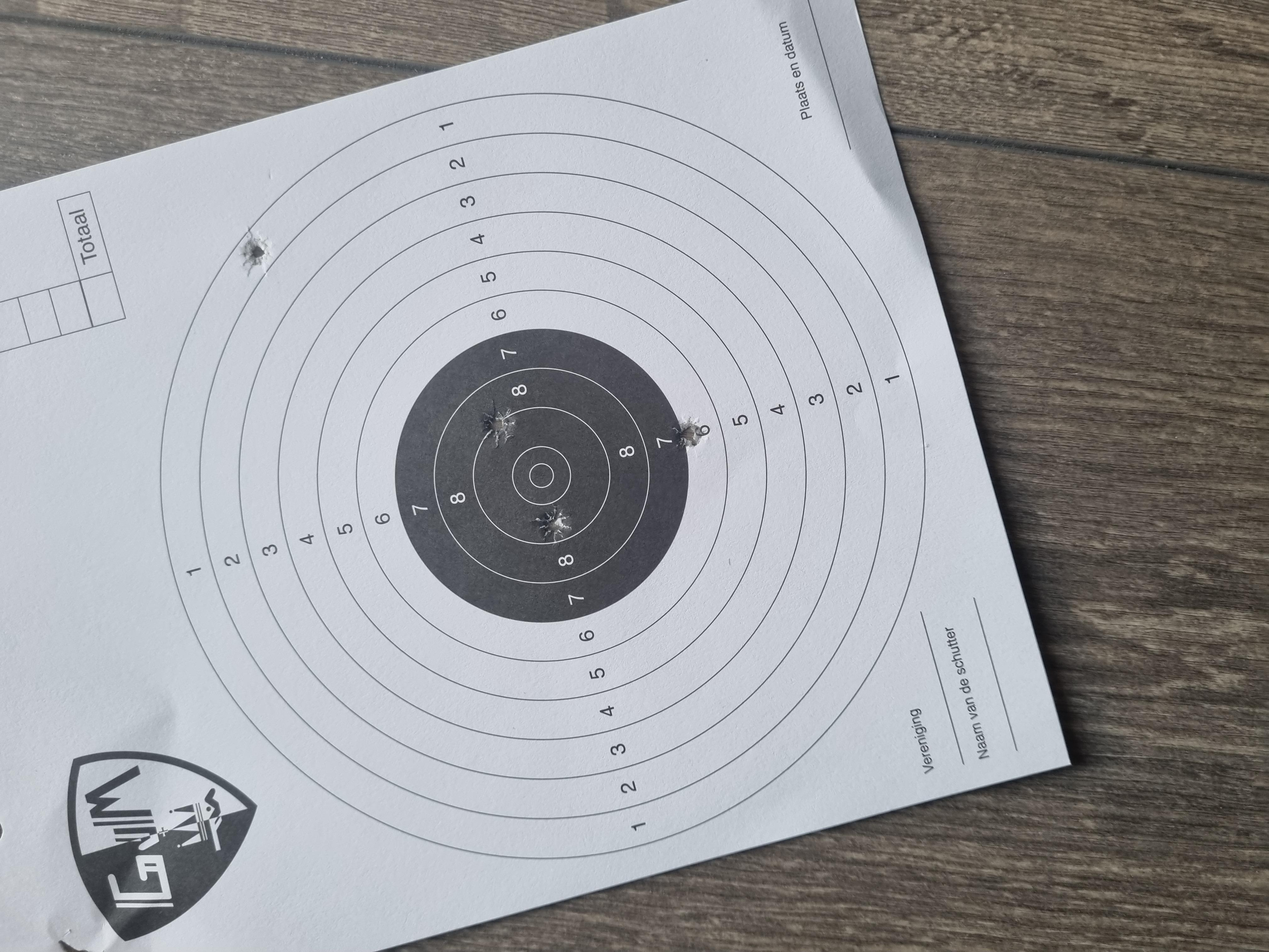hole: (672, 359, 733, 386), (543, 400, 594, 429), (900, 180, 967, 202), (672, 507, 713, 527)
